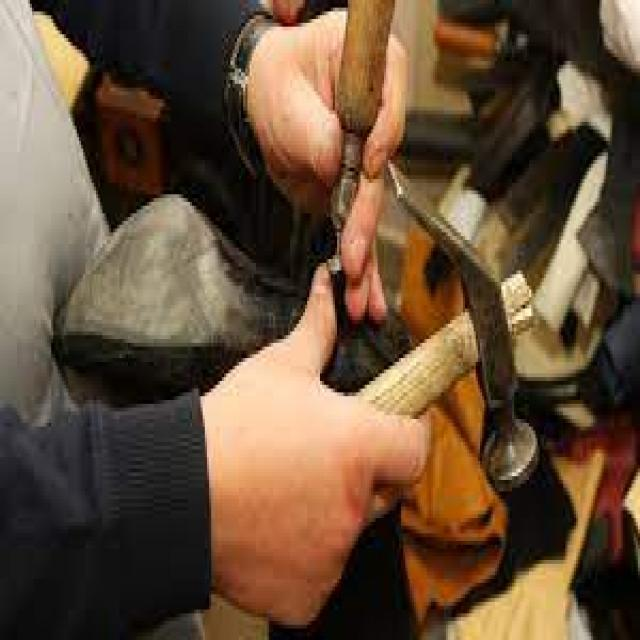hammer: (330, 146, 554, 504)
